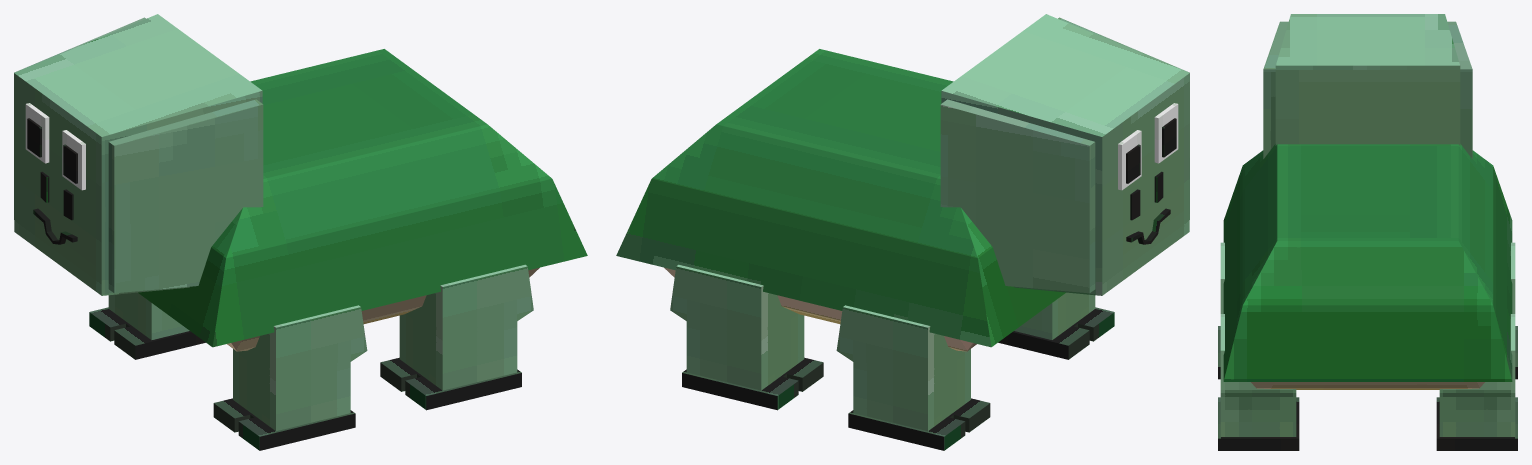
Rendered from animal_turtle.obj.
3 views of the same model, side by side, from view 1: azimuth 30°, elevation 25°; view 2: azimuth 150°, elevation 25°; view 3: azimuth 270°, elevation 25° (orthographic). The views are drawn at different scales.
Visible parts, largest first — view 1: animal_turtle; view 2: animal_turtle; view 3: animal_turtle.
Part boxes in pixels (box(x1,y1,x2,y2)): animal_turtle: box(14, 14, 587, 450); animal_turtle: box(616, 14, 1189, 450); animal_turtle: box(1218, 14, 1517, 450).
Bounding box in the file's own units: 3.35 × 2.31 × 2.18.
Materials: 1 (1 with a texture image).
